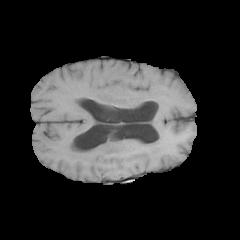glioma: (60, 137, 165, 166)
